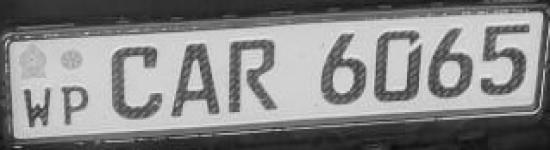0: (371, 24, 427, 106)
5: (477, 17, 536, 102)
6: (309, 28, 371, 111), (424, 24, 477, 106)
A: (167, 41, 225, 120)
C: (107, 41, 166, 124)
P: (56, 82, 94, 128)
R: (224, 35, 287, 115)
W: (21, 83, 55, 130)
